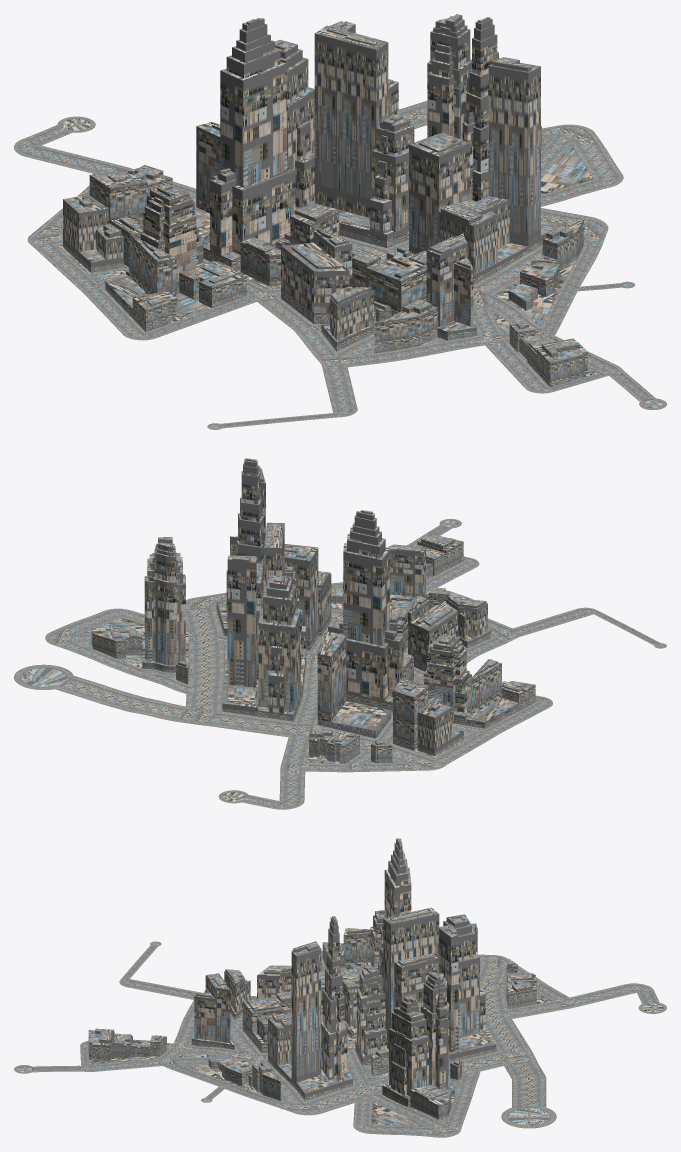
File: city.glb
3 views of the same model, one above another, from view 1: azimuth 30°, elevation 25°; view 2: azimuth 150°, elevation 25°; view 3: azimuth 270°, elevation 25° (orthographic). The views are drawn at different scales.
Visible parts, largest first — view 1: city; view 2: city; view 3: city.
Part boxes in pixels (x1,y1,x2,y2): city: [14, 14, 666, 429]; city: [14, 458, 666, 809]; city: [14, 838, 666, 1137].
Size of the model in its own units: 80.05 by 31.58 by 106.
Materials: 1 (1 with a texture image).
